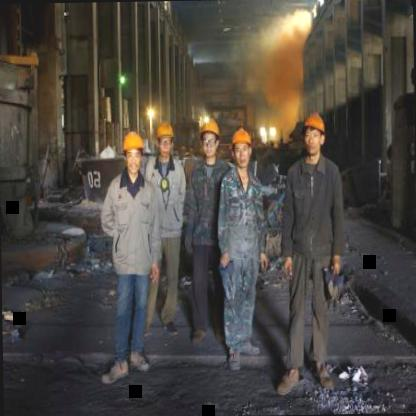helmet: (298, 109, 328, 159), (120, 128, 147, 176), (230, 125, 254, 168), (198, 114, 220, 158), (155, 120, 175, 161)
